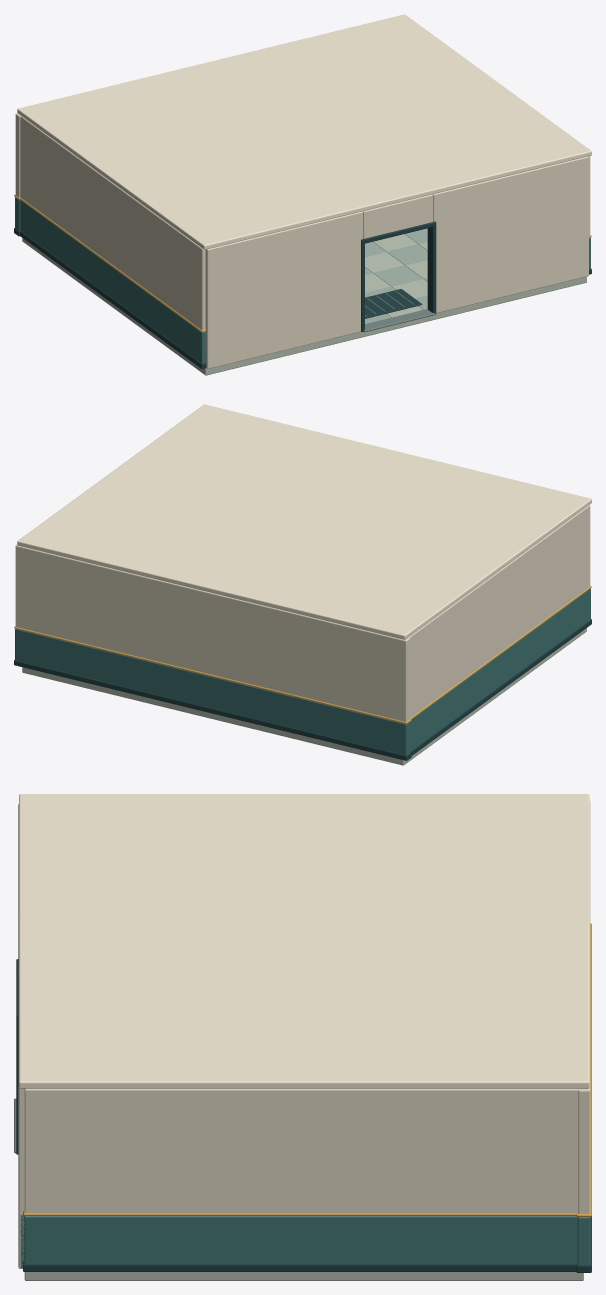
The model's file is waiting_room.glb.
3 views of the same model, one above another, from view 1: azimuth 30°, elevation 25°; view 2: azimuth 150°, elevation 25°; view 3: azimuth 270°, elevation 25° (orthographic). The views are drawn at different scales.
Visible parts, largest first — view 1: Ceiling panel, Entrance side wall, Entrance side wall.001, Left plaster, Left wainscot, Floor slab, Entrance lintel, Left skirting, Entrance mat, Entrance jamb.001, Floor tile 1 -3, Entrance threshold (+4 smaller); view 2: Ceiling panel, Back plaster, Left plaster, Back wainscot, Left wainscot, Floor slab, Back skirting, Left skirting, Back chair rail, Left chair rail; view 3: Ceiling panel, Right plaster, Right wainscot, Floor slab, Right skirting, Back plaster, Right chair rail, Entrance side wall.001, Back wainscot, Back chair rail.
Part boxes in pixels (box(x1,y1,x2,y2)): Ceiling panel: box(17, 14, 591, 249); Entrance side wall: box(205, 211, 362, 368); Entrance side wall.001: box(433, 156, 588, 313); Left plaster: box(20, 115, 205, 332); Left wainscot: box(20, 200, 205, 363); Floor slab: box(22, 238, 586, 375); Entrance lintel: box(363, 194, 432, 238); Left skirting: box(20, 231, 205, 368); Entrance mat: box(365, 289, 422, 318); Entrance jamb.001: box(427, 225, 436, 314); Floor tile 1 -3: box(373, 265, 422, 286); Entrance threshold: box(363, 309, 435, 332); Ceiling panel: box(17, 404, 591, 639); Back plaster: box(15, 544, 409, 723); Left plaster: box(408, 505, 590, 717); Back wainscot: box(15, 629, 410, 755); Left wainscot: box(410, 588, 590, 751); Floor slab: box(22, 628, 586, 765); Back skirting: box(14, 660, 411, 760); Left skirting: box(410, 619, 591, 755); Back chair rail: box(14, 626, 411, 723); Left chair rail: box(410, 586, 591, 719); Ceiling panel: box(19, 794, 589, 1088); Right plaster: box(24, 1088, 578, 1216); Right wainscot: box(24, 1216, 577, 1263); Floor slab: box(24, 1272, 583, 1280); Right skirting: box(23, 1261, 576, 1271); Back plaster: box(578, 800, 590, 1217); Right chair rail: box(23, 1210, 577, 1215); Entrance side wall.001: box(18, 972, 24, 1268); Back wainscot: box(577, 1217, 590, 1264); Back chair rail: box(576, 923, 591, 1216).
Size of the model in its own units: 12.36 by 3.98 by 10.33.
